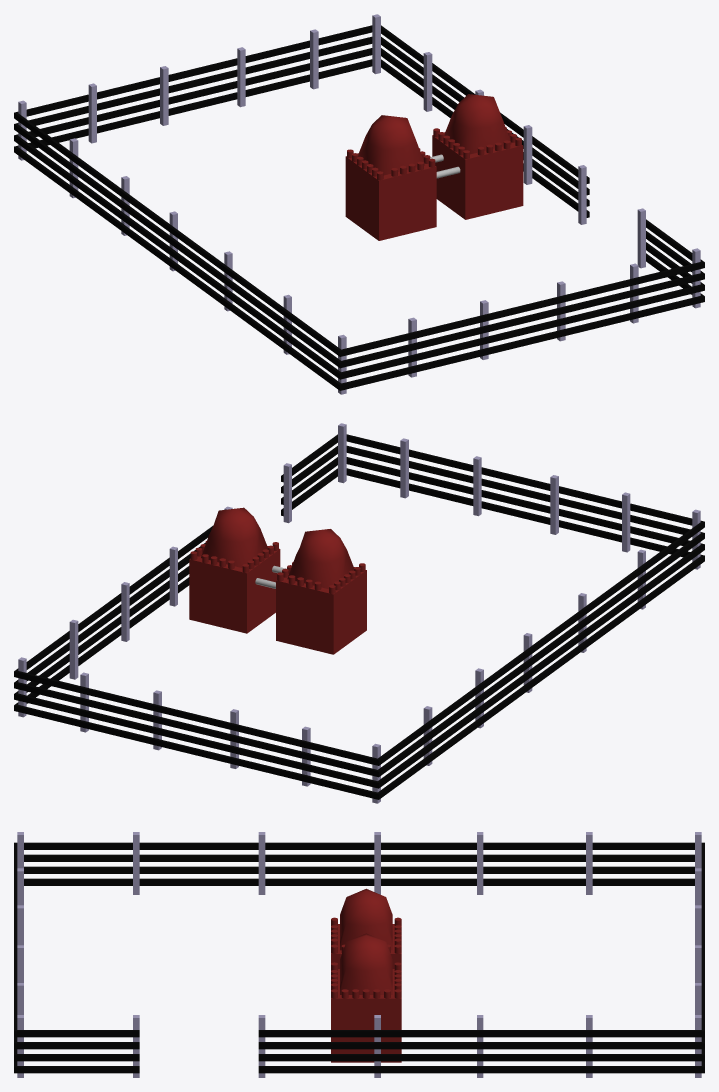
The model's file is PlantaP1.obj.
3 renders of one model, top to bottom at view 1: azimuth 30°, elevation 25°; view 2: azimuth 150°, elevation 25°; view 3: azimuth 270°, elevation 25°, orthographic. The views are drawn at different scales.
Visible parts, largest first — view 1: pasted__pCube1_group27, pCube041, Box164, Box163, Box175, Box165, Box177, Box178, Box176, Box174, pCube044, pasted__pCube2_group28 (+8 smaller); view 2: pasted__pCube1_group27, pCube041, Box164, Box163, Box175, Box165, Box171, Box170, Box172, Box173, pCube044, pasted__pCube2_group28 (+8 smaller); view 3: Box175, Box163, Box164, Box165, Box166, Box167, Box168, Box169, pCube041, pCube044, pasted__pCube2_group28, Box173 (+7 smaller).
Boxes of the visible parts, x1,y1,x2,y2 form: pasted__pCube1_group27: (345,153,436,240); pCube041: (432,132,523,219); Box164: (14,134,342,379); Box163: (14,146,342,390); Box175: (14,112,342,356); Box165: (14,123,342,368); Box177: (341,284,702,378); Box178: (341,296,702,390); Box176: (342,273,702,367); Box174: (341,262,702,356); pCube044: (445,94,511,154); pasted__pCube2_group28: (358,115,424,175); pasted__pCube1_group27: (276,567,366,654); pCube041: (189,546,280,633); Box164: (376,543,704,788); Box163: (376,555,704,799); Box175: (376,521,704,765); Box165: (376,532,704,777); Box171: (16,693,377,787); Box170: (16,705,377,799); Box172: (16,682,376,776); Box173: (16,671,377,765); pCube044: (201,507,267,567); pasted__pCube2_group28: (287,529,353,589); Box175: (14,842,704,849); Box163: (24,878,694,885); Box164: (24,866,694,873); Box165: (24,854,694,861); Box166: (14,1030,704,1037); Box167: (14,1042,704,1049); Box168: (14,1054,704,1061); Box169: (14,1066,704,1073); pCube041: (331,969,401,1062); pCube044: (340,933,392,994); pasted__pCube2_group28: (340,888,392,950); Box173: (701,844,704,1029).
Size of the model in its own units: 135 by 37.35 by 209.
Materials: 4 (4 with a texture image).
